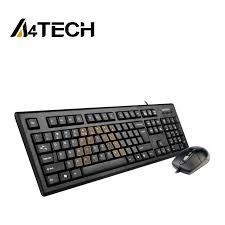keyboard: (13, 108, 183, 190)
mouse: (174, 149, 210, 177)
